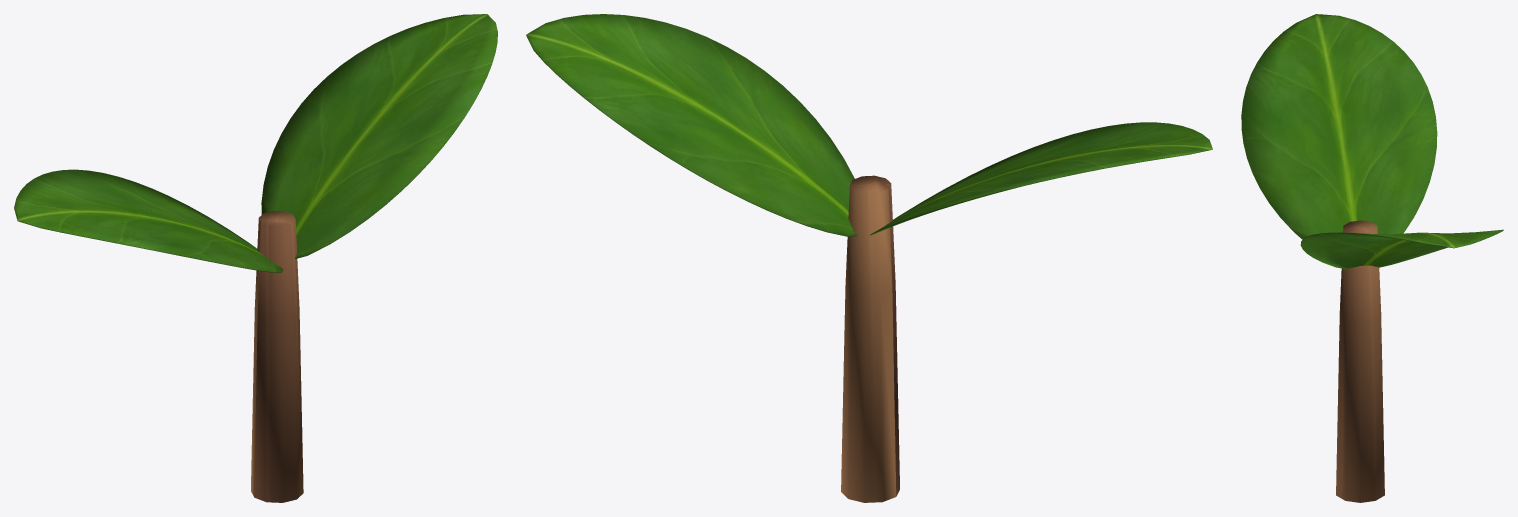
Rendered from NP_Blueberry_Sprout.fbx.
3 renders of one model, left to right at view 1: azimuth 30°, elevation 25°; view 2: azimuth 150°, elevation 25°; view 3: azimuth 270°, elevation 25°, orthographic. The views are drawn at different scales.
Parts seen in each view (by area): view 1: NP_Blueberry_Sprout; view 2: NP_Blueberry_Sprout; view 3: NP_Blueberry_Sprout.
Boxes of the visible parts, bbox=[...] form: NP_Blueberry_Sprout: bbox=[14, 14, 497, 502]; NP_Blueberry_Sprout: bbox=[526, 14, 1212, 502]; NP_Blueberry_Sprout: bbox=[1241, 14, 1503, 502].
Bounding box in the file's own units: 37.71 × 25.38 × 16.37.
